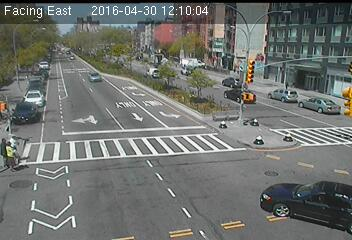neg: (296, 181, 316, 208), (279, 122, 299, 148), (73, 105, 91, 130), (179, 61, 192, 78), (89, 67, 102, 84), (226, 78, 238, 95), (238, 112, 250, 128), (148, 62, 160, 78), (66, 51, 77, 66), (35, 90, 45, 105), (236, 59, 246, 72), (136, 49, 146, 61)
pos: (2, 133, 24, 163), (283, 78, 293, 91)
